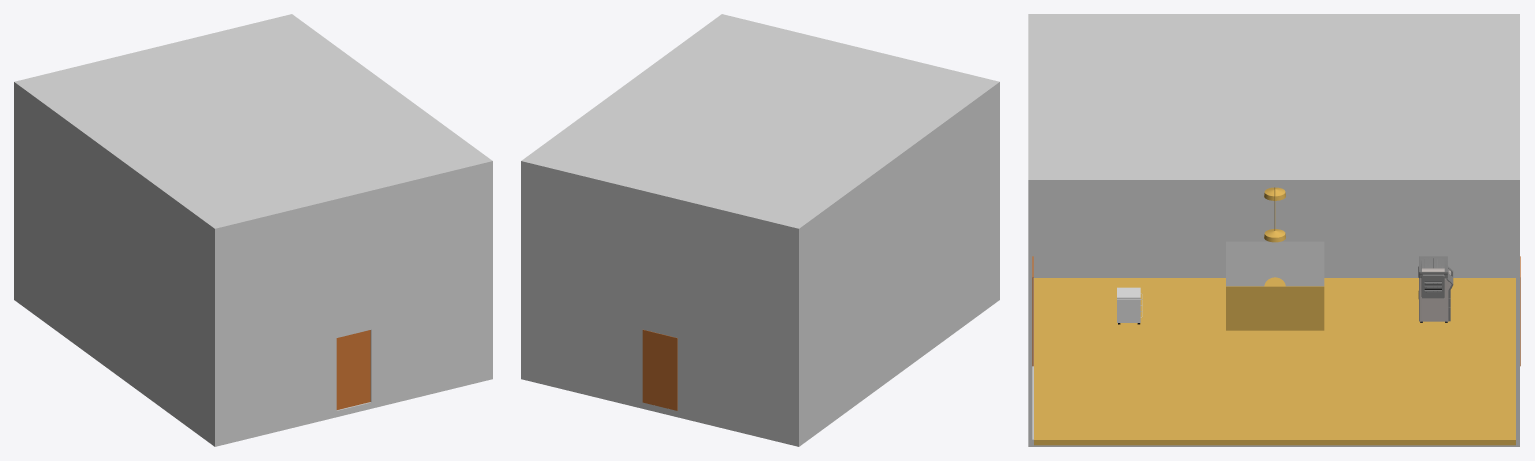
Rendered from doors_animation.fbx.
3 views of the same model, side by side, from view 1: azimuth 30°, elevation 25°; view 2: azimuth 150°, elevation 25°; view 3: azimuth 270°, elevation 25° (orthographic). The views are drawn at different scales.
Visible parts, largest first — view 1: walls, Door_L; view 2: walls, Door_R; view 3: walls, Cube, table1, glass, Printer Body, Office drawers darl wood.
Part boxes in pixels (x1,y1,x2,y2): walls: (14,14,492,446); Door_L: (336,330,370,409); walls: (521,14,999,446); Door_R: (642,329,677,410); walls: (1028,14,1519,446); Cube: (1034,278,1515,445); table1: (1226,277,1324,330); glass: (1226,241,1324,286); Printer Body: (1419,256,1453,321); Office drawers darl wood: (1117,287,1142,324).
Size of the model in its own units: 801 by 600 by 1003.
